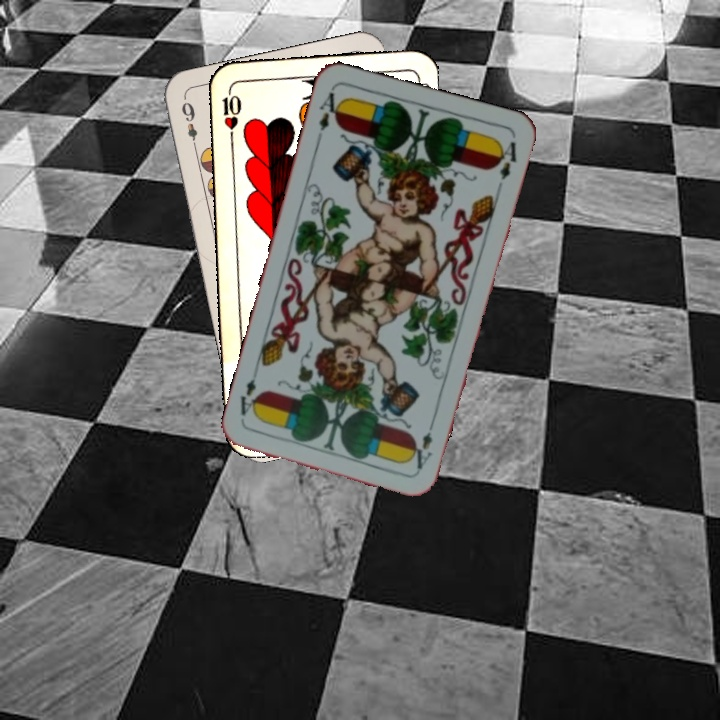E9: (177, 98, 200, 154)
EA: (312, 88, 345, 144), (412, 414, 438, 472)
H10: (218, 83, 244, 142)
